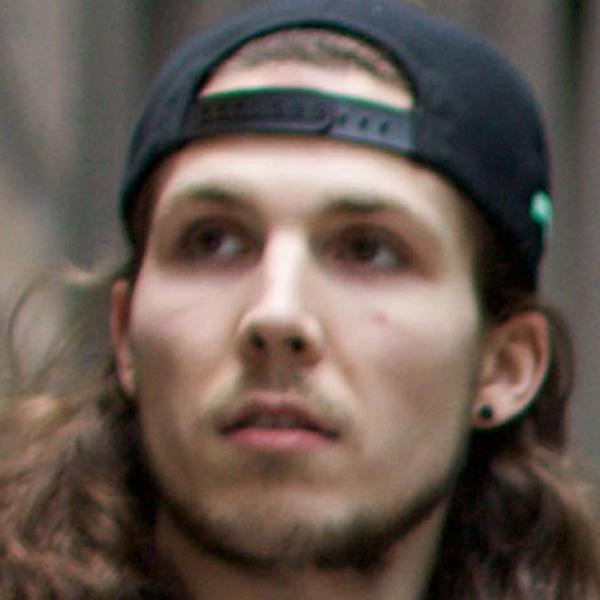Eyes: (169, 204, 262, 275), (320, 214, 416, 282)
